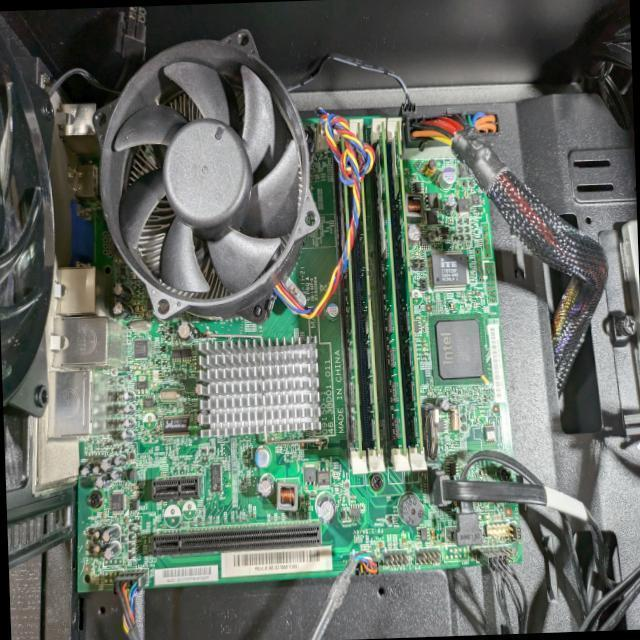CPU_Fan: (95, 36, 323, 324)
Mainboard: (61, 106, 524, 592)
RAM: (369, 116, 410, 470), (384, 117, 425, 470), (345, 118, 386, 470), (334, 128, 368, 472)
